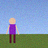person: (6, 18, 19, 43)
